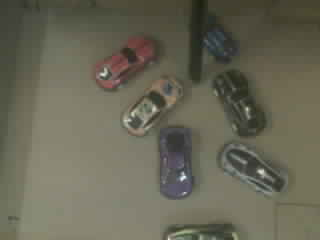Car: (217, 141, 286, 195), (212, 69, 265, 136), (122, 76, 182, 135), (95, 37, 154, 89), (159, 126, 192, 198), (204, 16, 236, 61), (166, 223, 239, 239)
